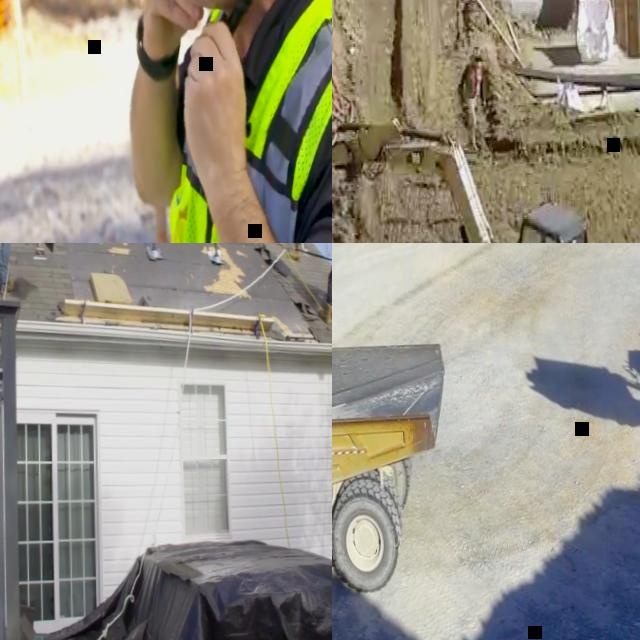Person: (118, 0, 332, 243), (457, 50, 484, 150), (313, 243, 332, 335)
Safety Vest: (160, 0, 332, 243)
machinery: (332, 92, 609, 243), (332, 310, 460, 603)
